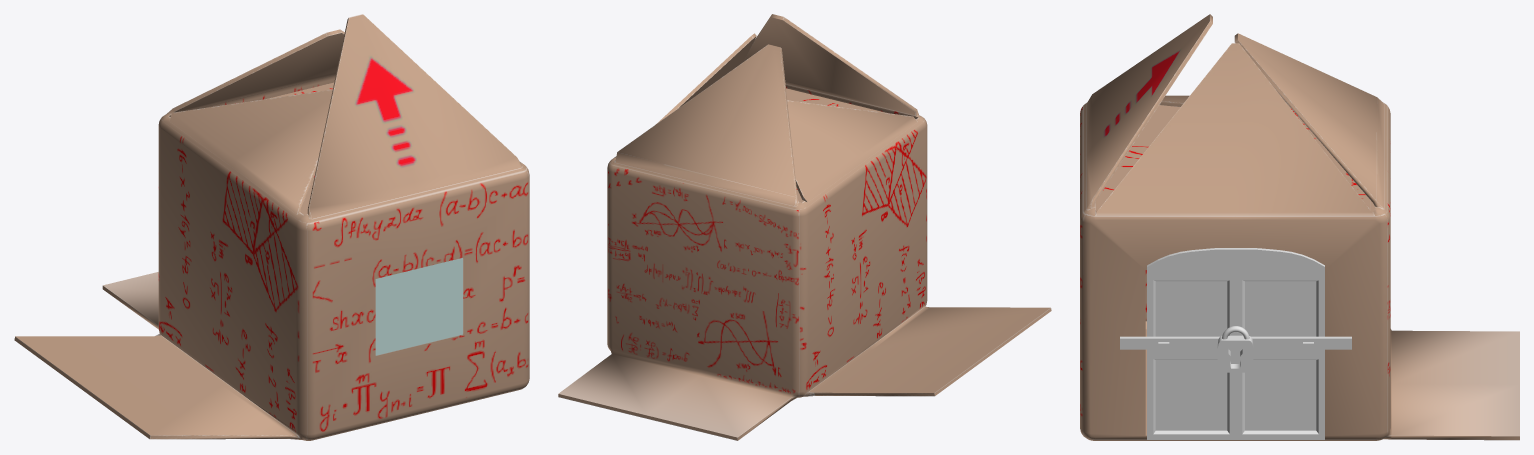
File: rood  huisje.fbx
3 views of the same model, side by side, from view 1: azimuth 30°, elevation 25°; view 2: azimuth 150°, elevation 25°; view 3: azimuth 270°, elevation 25° (orthographic). The views are drawn at different scales.
Visible parts, largest first — view 1: Cube_4; view 2: Cube_4; view 3: Cube_4, Cube, Cube_1, Torus_1.
Boxes of the visible parts, x1,y1,x2,y2 form: Cube_4: [14, 14, 529, 440]; Cube_4: [558, 14, 1051, 440]; Cube_4: [1080, 14, 1519, 440]; Cube: [1147, 248, 1324, 439]; Cube_1: [1120, 336, 1351, 349]; Torus_1: [1217, 326, 1253, 372].
Size of the model in its own units: 1122 by 969 by 1045.
1 material, 1 textured.
